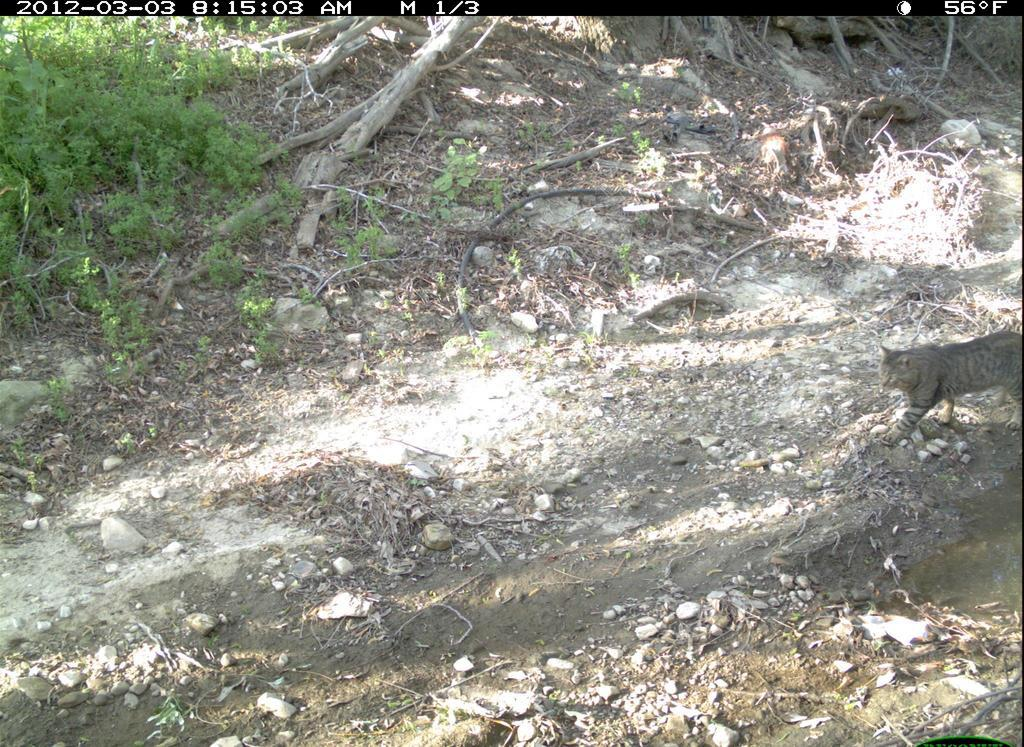cat: (873, 321, 1022, 457)
